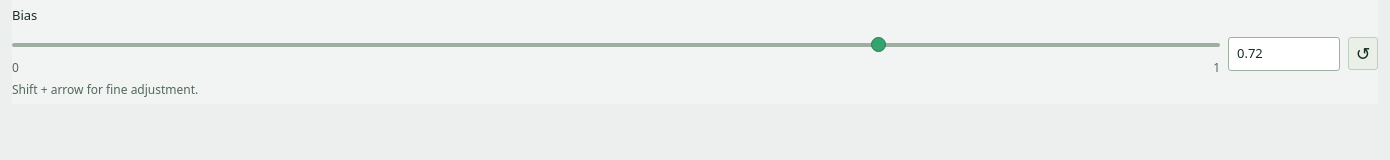
it: synchronizes drag, exact input, fine keyboard adjustment, endpoints and reset
Earlier steps of the test are not shown.
Expected: the field holds "0.72", [1228,36,1340,70]
Press ArrowRight in the slider, box [12,30,1220,58]
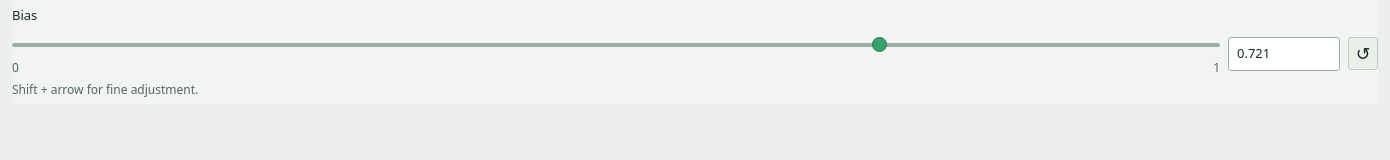
Expected: the field holds "0.721", [1228,36,1340,70]
Press PageUp in the slider, box [12,30,1220,58]
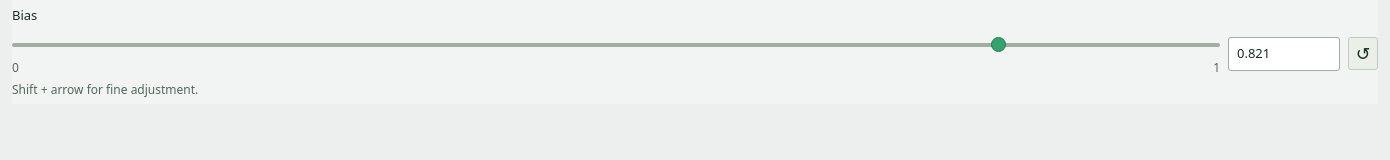
Expected: the field holds "0.821", [1228,36,1340,70]
Press Home in the slider, box [12,30,1220,58]
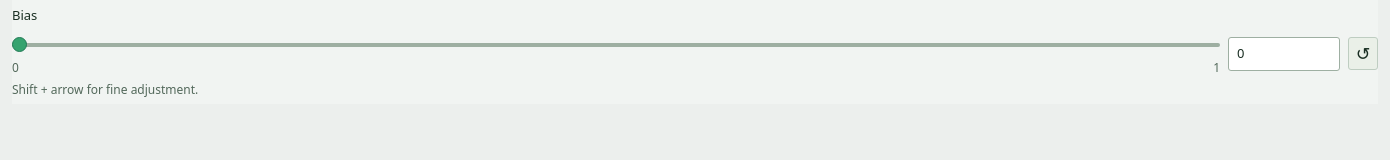
Expected: the field holds "0", [1228,36,1340,70]
Press End in the slider, box [12,30,1220,58]
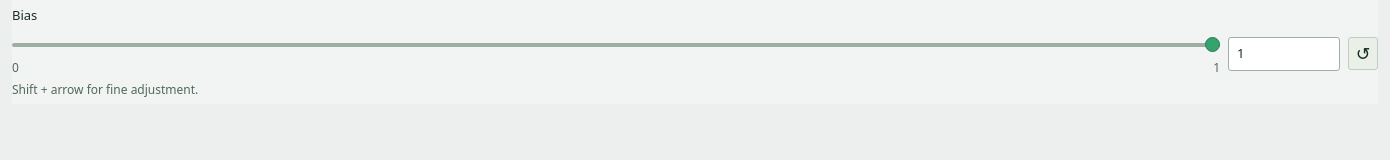
Expected: the field holds "1"
Replace the text in the field with "0.333333333": (1284,54) [1228,36,1340,70]
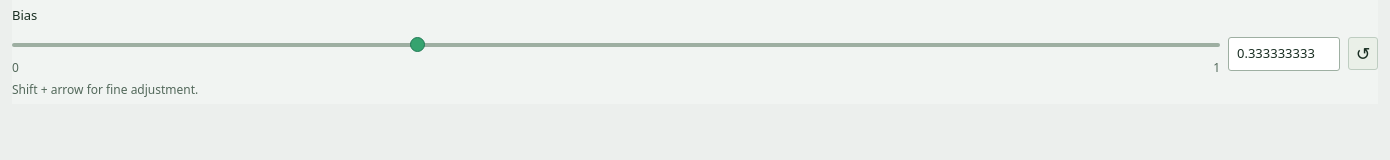
Expected: the slider holds "0.333333333", [12,30,1220,58]
Click the button named "Reset Bias": (1363,54) [1348,37,1378,70]
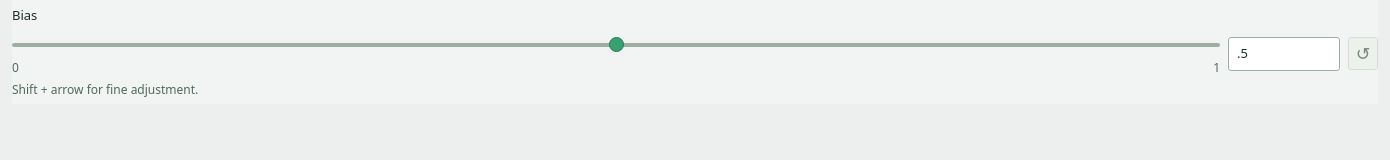
Expected: the field holds ".5", [1228,36,1340,70]
